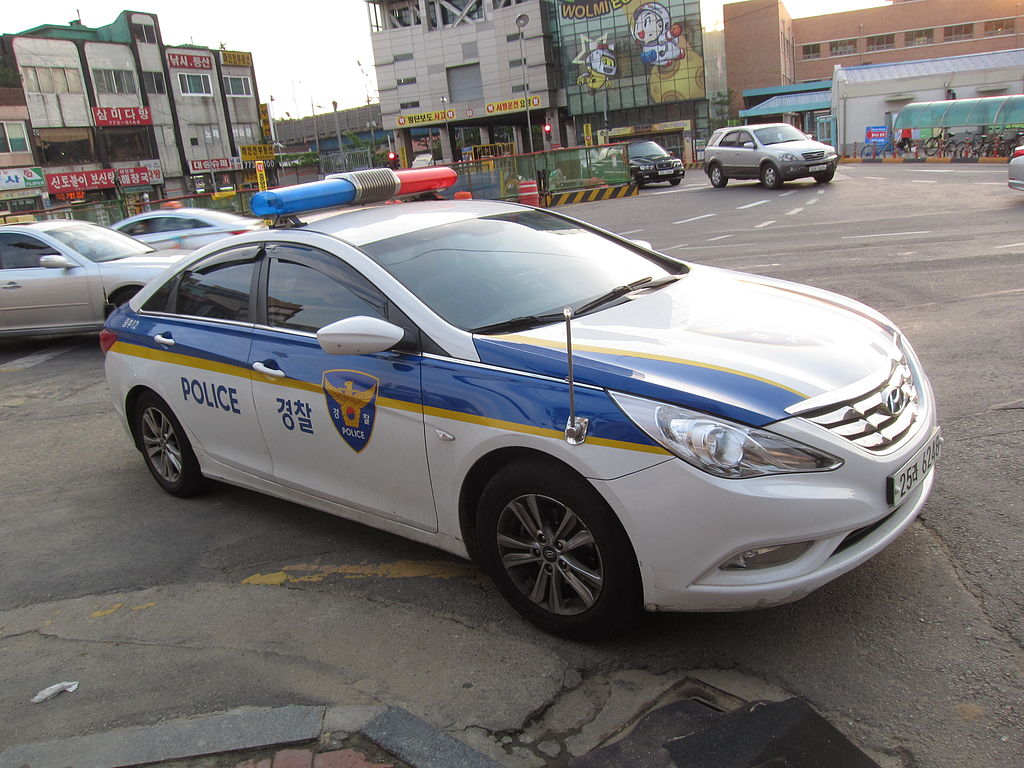oto: (99, 196, 945, 646), (0, 209, 274, 351), (0, 217, 207, 357), (71, 204, 264, 331), (703, 122, 838, 191), (624, 137, 684, 188)
